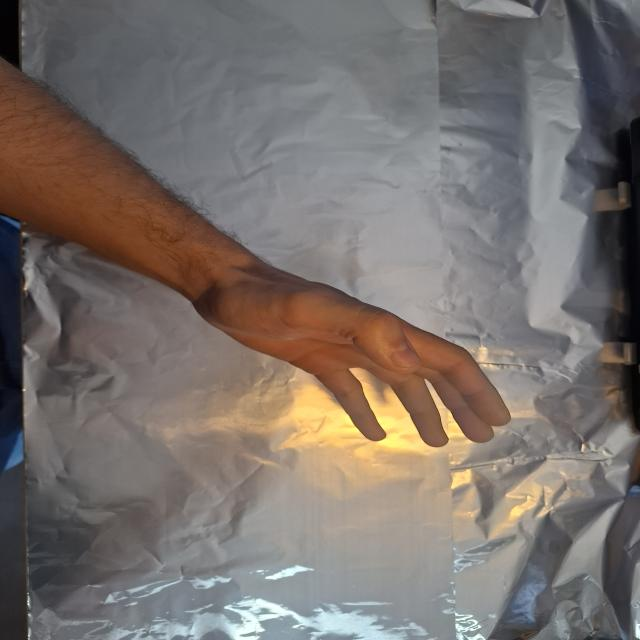glove_off: (190, 272, 515, 450)
